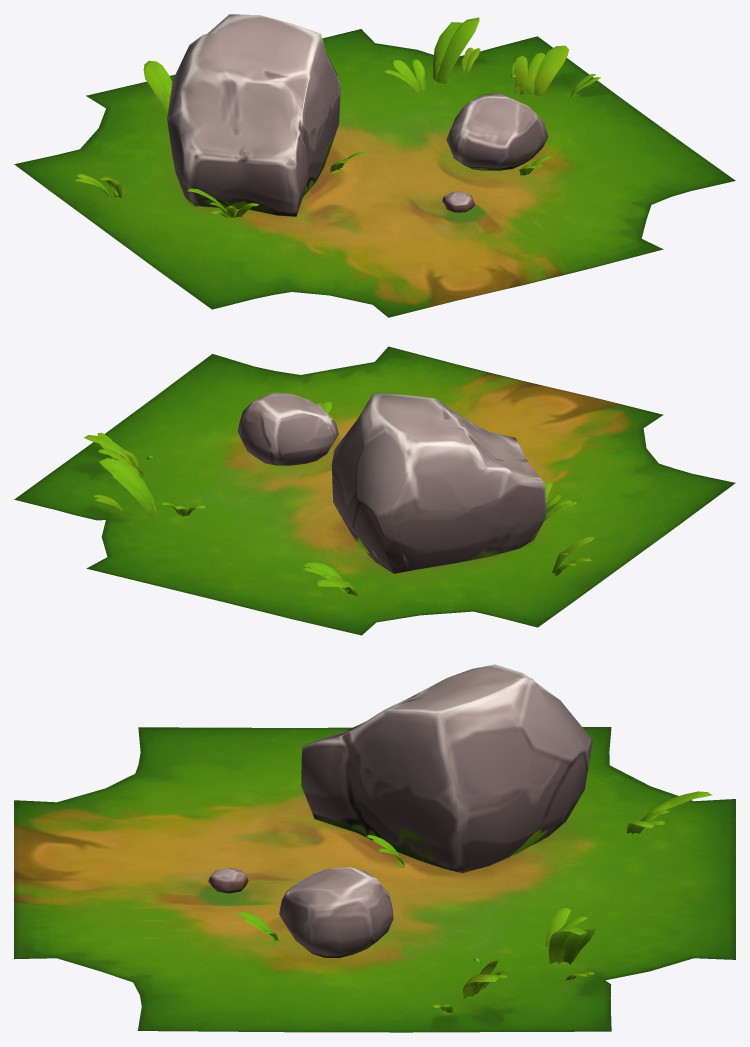
Rendered from etapa25.glb.
3 renders of one model, top to bottom at view 1: azimuth 30°, elevation 25°; view 2: azimuth 150°, elevation 25°; view 3: azimuth 270°, elevation 25°, orthographic. The views are drawn at different scales.
Bounding box in the file's own units: 1 × 0.2443 × 1.
Materials: 1 (1 with a texture image).
